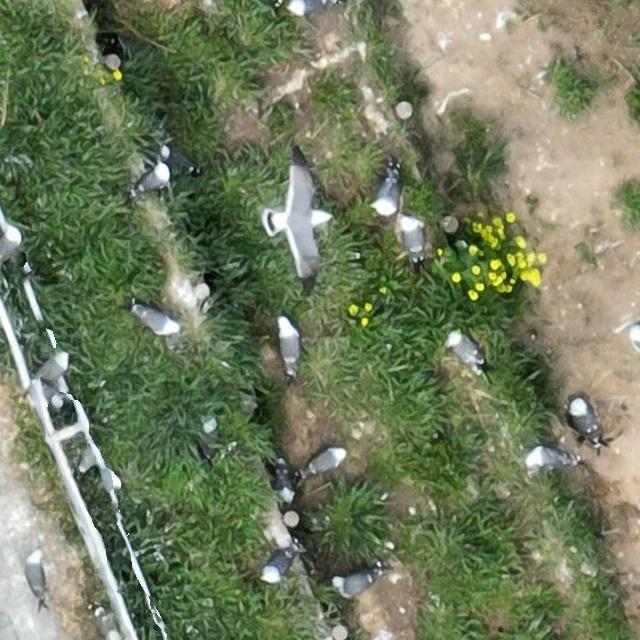F: (276, 173, 326, 269)
umineko: (451, 334, 482, 367), (92, 604, 120, 638), (374, 176, 398, 215), (530, 448, 582, 466), (275, 456, 294, 505), (140, 308, 177, 332), (264, 550, 294, 579), (571, 400, 595, 436), (335, 573, 374, 595), (281, 324, 299, 368), (2, 222, 24, 258), (308, 447, 342, 470), (404, 220, 424, 258), (137, 164, 166, 190), (202, 415, 219, 457), (163, 148, 192, 171), (40, 354, 68, 377), (28, 560, 44, 594), (290, 0, 329, 13), (99, 467, 118, 491), (39, 386, 61, 405)
